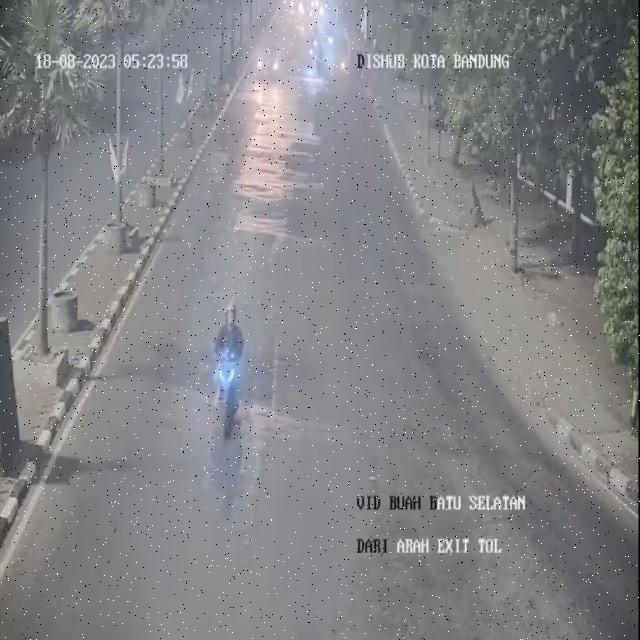cars: (254, 42, 284, 89)
motorcycle: (202, 296, 250, 440), (313, 46, 329, 78)
